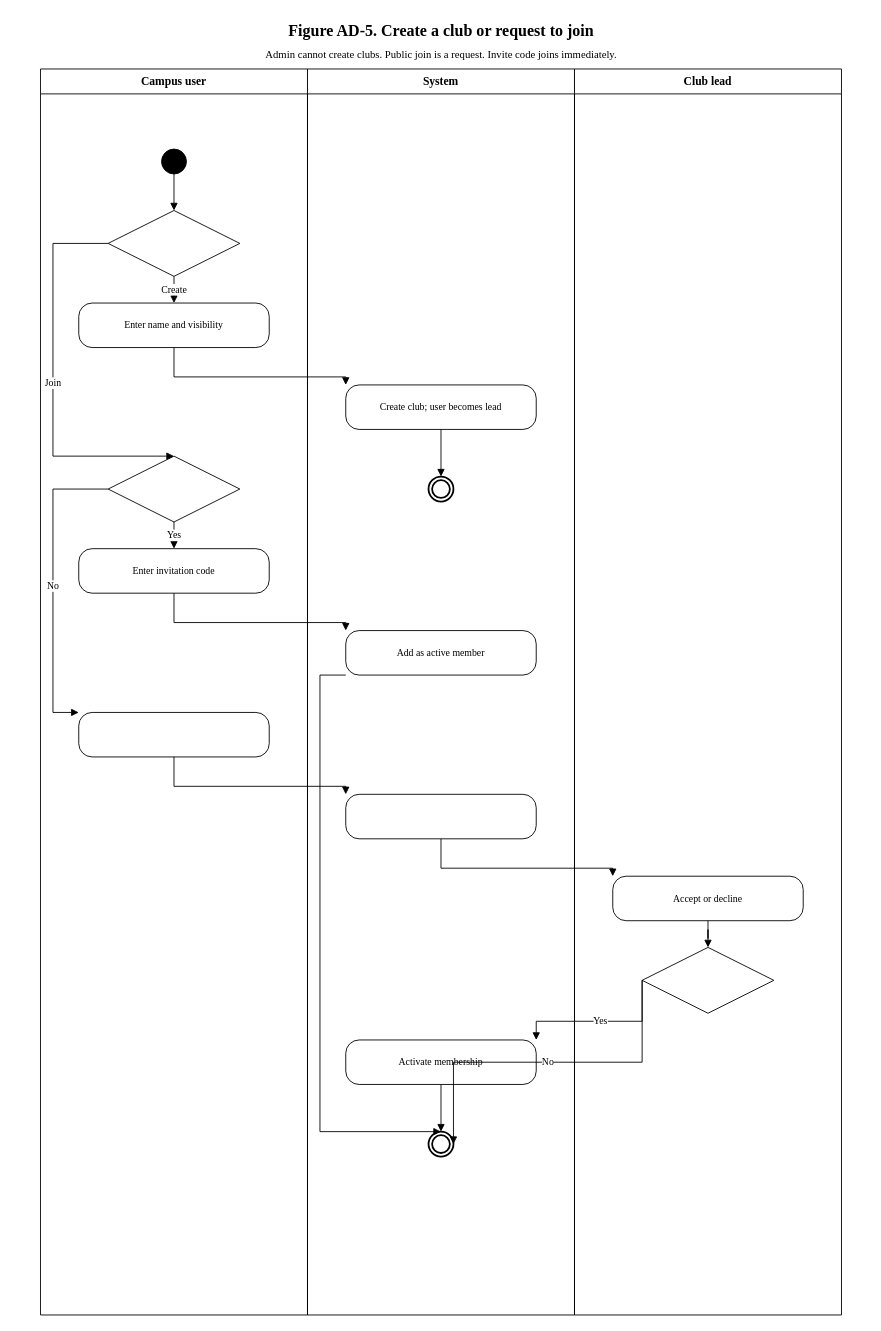
The diagram is 881 pixels wide and 1331 high, and some of its shapes have lost their labels. The shapes that lost their labels are listed below. From the top down, each one's centre as x and y in pixels, then its label:
point 173,243: Create or join?
point 173,488: Has invite code?
point 173,734: Request to join public club
point 440,816: Store pending request
point 707,980: Accept?
